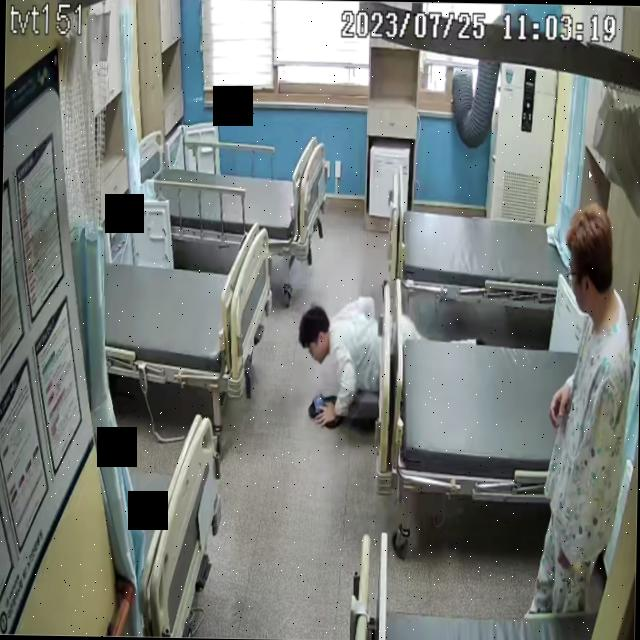bed: (374, 276, 630, 504), (388, 155, 576, 315), (105, 223, 272, 392), (154, 139, 324, 257)
fall: (298, 295, 397, 428)
patient: (524, 201, 632, 613), (298, 295, 402, 430)
stand: (524, 203, 634, 613)
